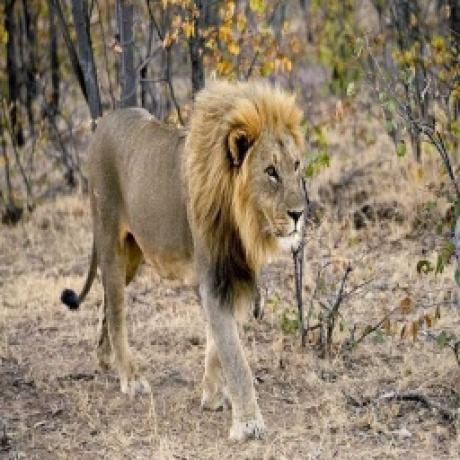Lion: (59, 75, 310, 444)
